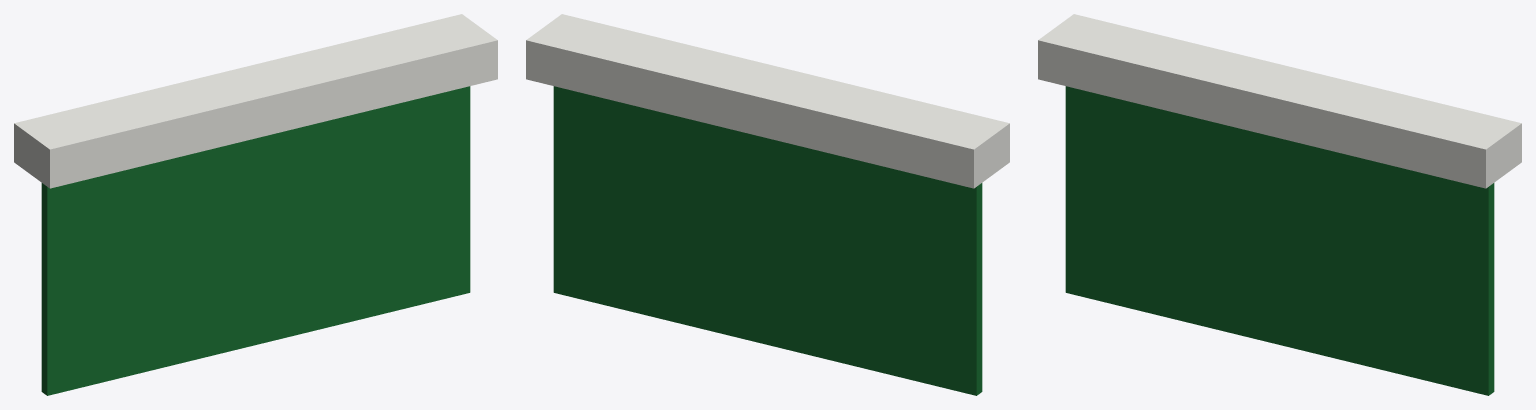
The model's file is services.light.exit_sign.glb.
3 views of the same model, side by side, from view 1: azimuth 30°, elevation 25°; view 2: azimuth 150°, elevation 25°; view 3: azimuth 330°, elevation 25° (orthographic).
Visible parts, largest first — view 1: main__plastic_green, main__paint_white; view 2: main__plastic_green, main__paint_white; view 3: main__plastic_green, main__paint_white.
Part boxes in pixels (x1,y1,x2,y2): main__plastic_green: (41,86,470,395); main__paint_white: (14,14,497,188); main__plastic_green: (553,86,982,395); main__paint_white: (526,14,1009,188); main__plastic_green: (1065,86,1494,395); main__paint_white: (1038,14,1521,188).
Bounding box in the file's own units: 0.36 × 0.2 × 0.05.
